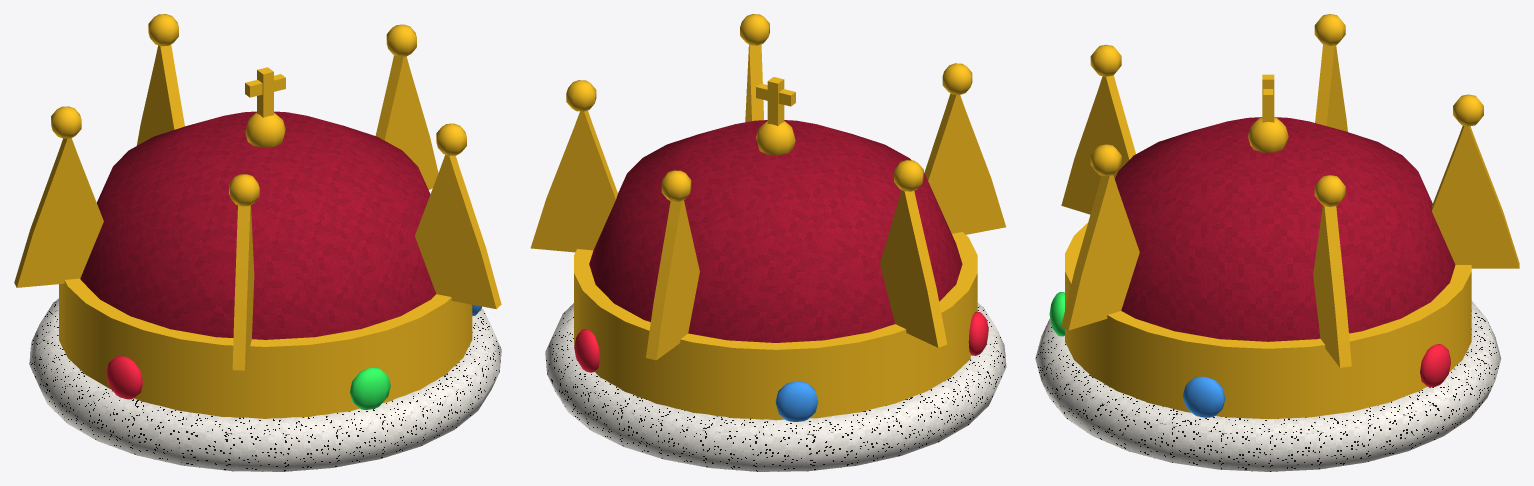
Rendered from x_hat_crown.glb.
The picture shows the model from 3 angles, left to right: view 1: azimuth 30°, elevation 25°; view 2: azimuth 150°, elevation 25°; view 3: azimuth 270°, elevation 25°; orthographic projection. The views are drawn at different scales.
Visible parts, largest first — view 1: hat_body.002, hat_cap, hat_fur, hat_gems; view 2: hat_body.002, hat_cap, hat_fur, hat_gems; view 3: hat_body.002, hat_cap, hat_fur, hat_gems.
Boxes of the visible parts, x1,y1,x2,y2 form: hat_body.002: (14,14,501,418); hat_cap: (80,111,435,339); hat_fur: (29,298,501,471); hat_gems: (106,304,481,409); hat_body.002: (530,14,1005,420); hat_cap: (589,120,962,342); hat_fur: (545,303,1006,471); hat_gems: (574,311,988,421); hat_body.002: (1061,14,1519,419); hat_cap: (1115,117,1455,341); hat_fur: (1035,301,1501,471); hat_gems: (1049,292,1450,417).
Bounding box in the file's own units: 1.18 × 0.83 × 1.19.
6 materials, 2 textured.
